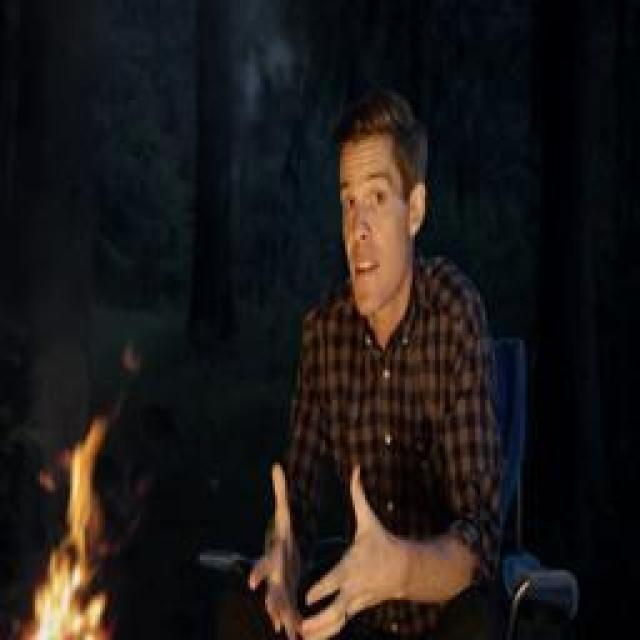Fire: (18, 412, 116, 640)
